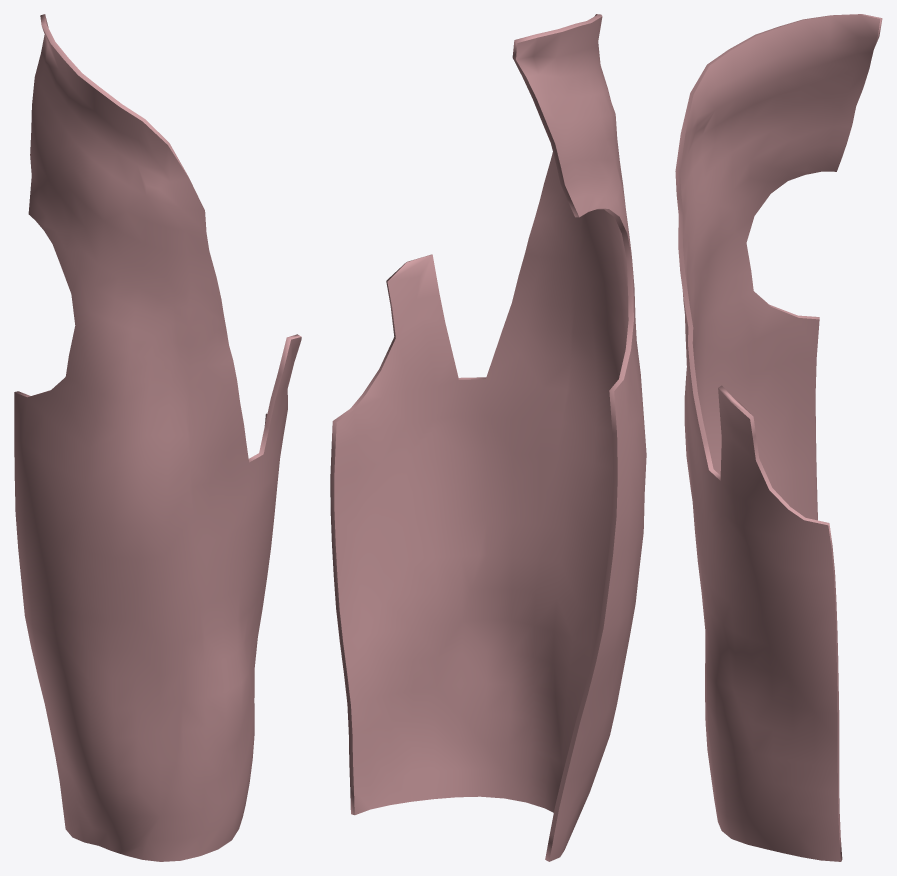
The picture shows the model from 3 angles, left to right: view 1: azimuth 30°, elevation 25°; view 2: azimuth 150°, elevation 25°; view 3: azimuth 270°, elevation 25°; orthographic projection. The views are drawn at different scales.
Visible parts, largest first — view 1: ZA_bde75896e8bd00e9; view 2: ZA_bde75896e8bd00e9; view 3: ZA_bde75896e8bd00e9.
Boxes of the visible parts, box(x1,y1,x2,y2) form: ZA_bde75896e8bd00e9: box(14, 14, 301, 861); ZA_bde75896e8bd00e9: box(330, 14, 646, 861); ZA_bde75896e8bd00e9: box(675, 14, 882, 861).
Size of the model in its own units: 0.1783 by 0.5162 by 0.1258.
